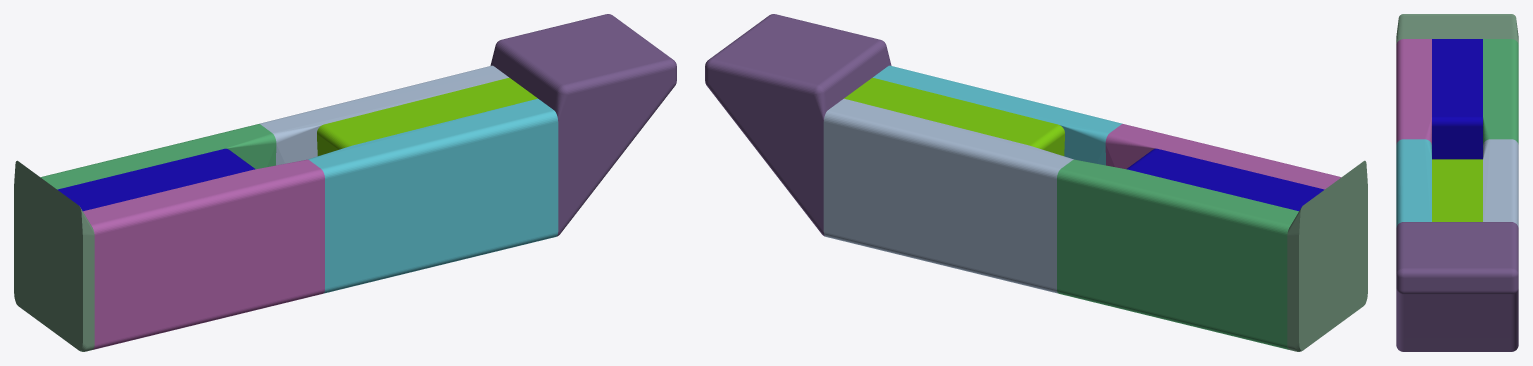
The model's file is 0_body.obj.
3 renders of one model, left to right at view 1: azimuth 30°, elevation 25°; view 2: azimuth 150°, elevation 25°; view 3: azimuth 270°, elevation 25°, orthographic. The views are drawn at different scales.
Visible parts, largest first — view 1: geometry_2, geometry_7, geometry_1, geometry_0, geometry_4, geometry_6, geometry_5, geometry_3; view 2: geometry_6, geometry_3, geometry_1, geometry_0, geometry_4, geometry_2, geometry_5, geometry_7; view 3: geometry_1, geometry_5, geometry_3, geometry_7, geometry_4, geometry_0, geometry_2, geometry_6.
Boxes of the visible parts, x1,y1,x2,y2 form: geometry_2: [308, 98, 558, 293]; geometry_7: [83, 159, 324, 349]; geometry_1: [490, 14, 676, 236]; geometry_0: [14, 160, 94, 351]; geometry_4: [317, 77, 537, 155]; geometry_6: [259, 65, 508, 165]; geometry_5: [57, 148, 255, 211]; geometry_3: [40, 124, 276, 189]; geometry_6: [823, 98, 1073, 293]; geometry_3: [1057, 159, 1298, 349]; geometry_1: [705, 14, 891, 236]; geometry_0: [1287, 160, 1367, 351]; geometry_4: [844, 77, 1064, 155]; geometry_2: [873, 65, 1122, 165]; geometry_5: [1126, 148, 1324, 211]; geometry_7: [1105, 124, 1341, 189]; geometry_1: [1396, 222, 1518, 351]; geometry_5: [1432, 39, 1482, 159]; geometry_3: [1483, 39, 1518, 144]; geometry_7: [1396, 39, 1431, 144]; geometry_4: [1432, 159, 1482, 221]; geometry_0: [1396, 14, 1518, 43]; geometry_2: [1396, 139, 1431, 227]; geometry_6: [1483, 139, 1518, 227].
Bounding box in the file's own units: 0.1274 × 0.0305 × 0.0254.
